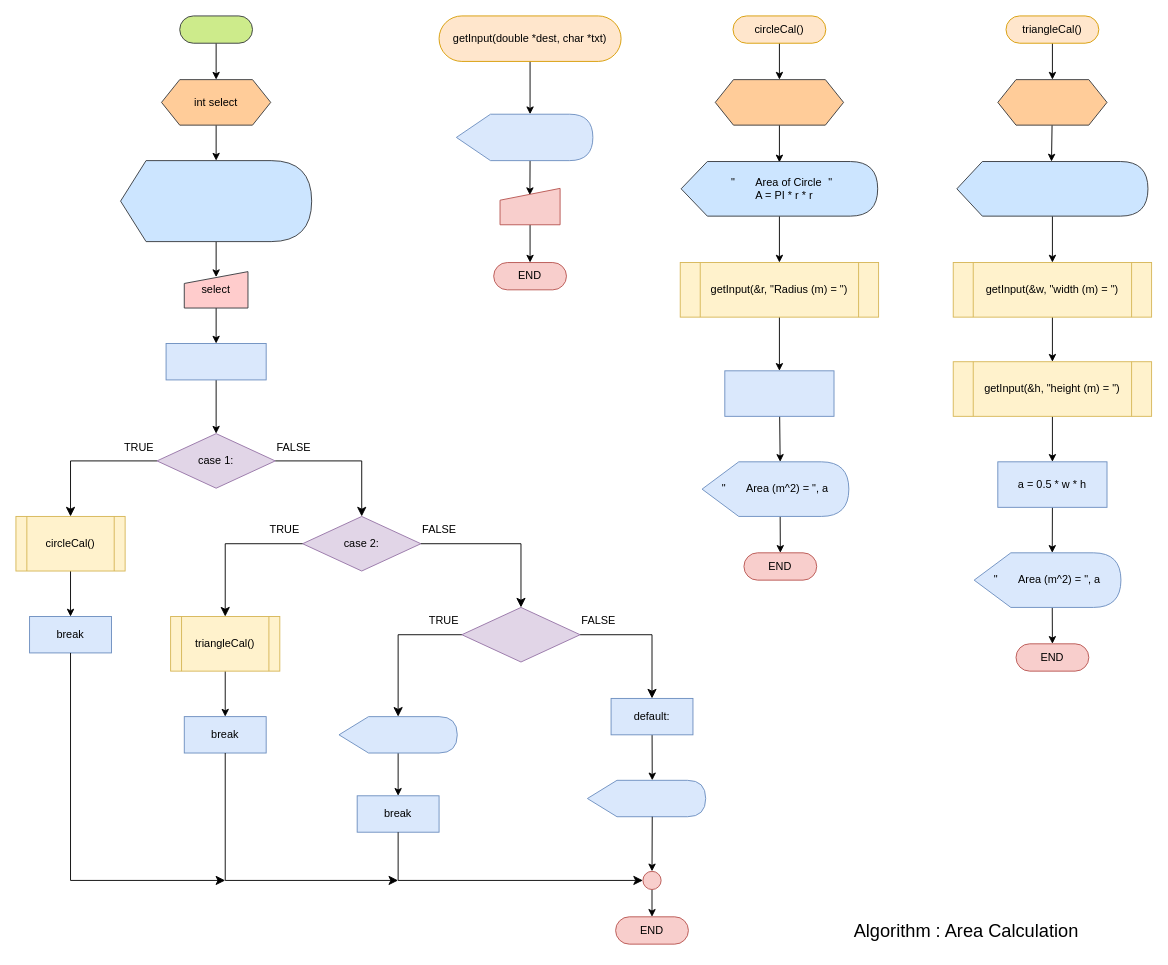
The diagram is 1168 pixels wide and 965 high, and some of its shapes have lost their labels. Here are the shapes that lost their labels. From the top down, the centre of each, then its label:
point 216,29: START
point 779,102: double r, a; double PI = 3.1415
point 1052,102: double a, h, w
point 524,137: "%s", txt
point 216,201: " Menu Select " 1). Circle 2). Triangle 3). Exit Please select :
point 529,206: dest
point 1052,188: " Area of Triangle " A = 0.5 * w * h
point 215,361: switch(select)
point 779,393: a = PI * r * r
point 520,634: case 3:
point 397,734: "Thank You!"
point 646,798: "Wrong selection"
